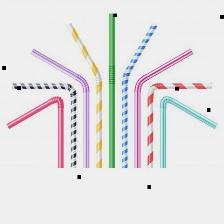drinking_straw: (2, 93, 67, 171), (156, 93, 218, 170), (104, 10, 117, 170)
